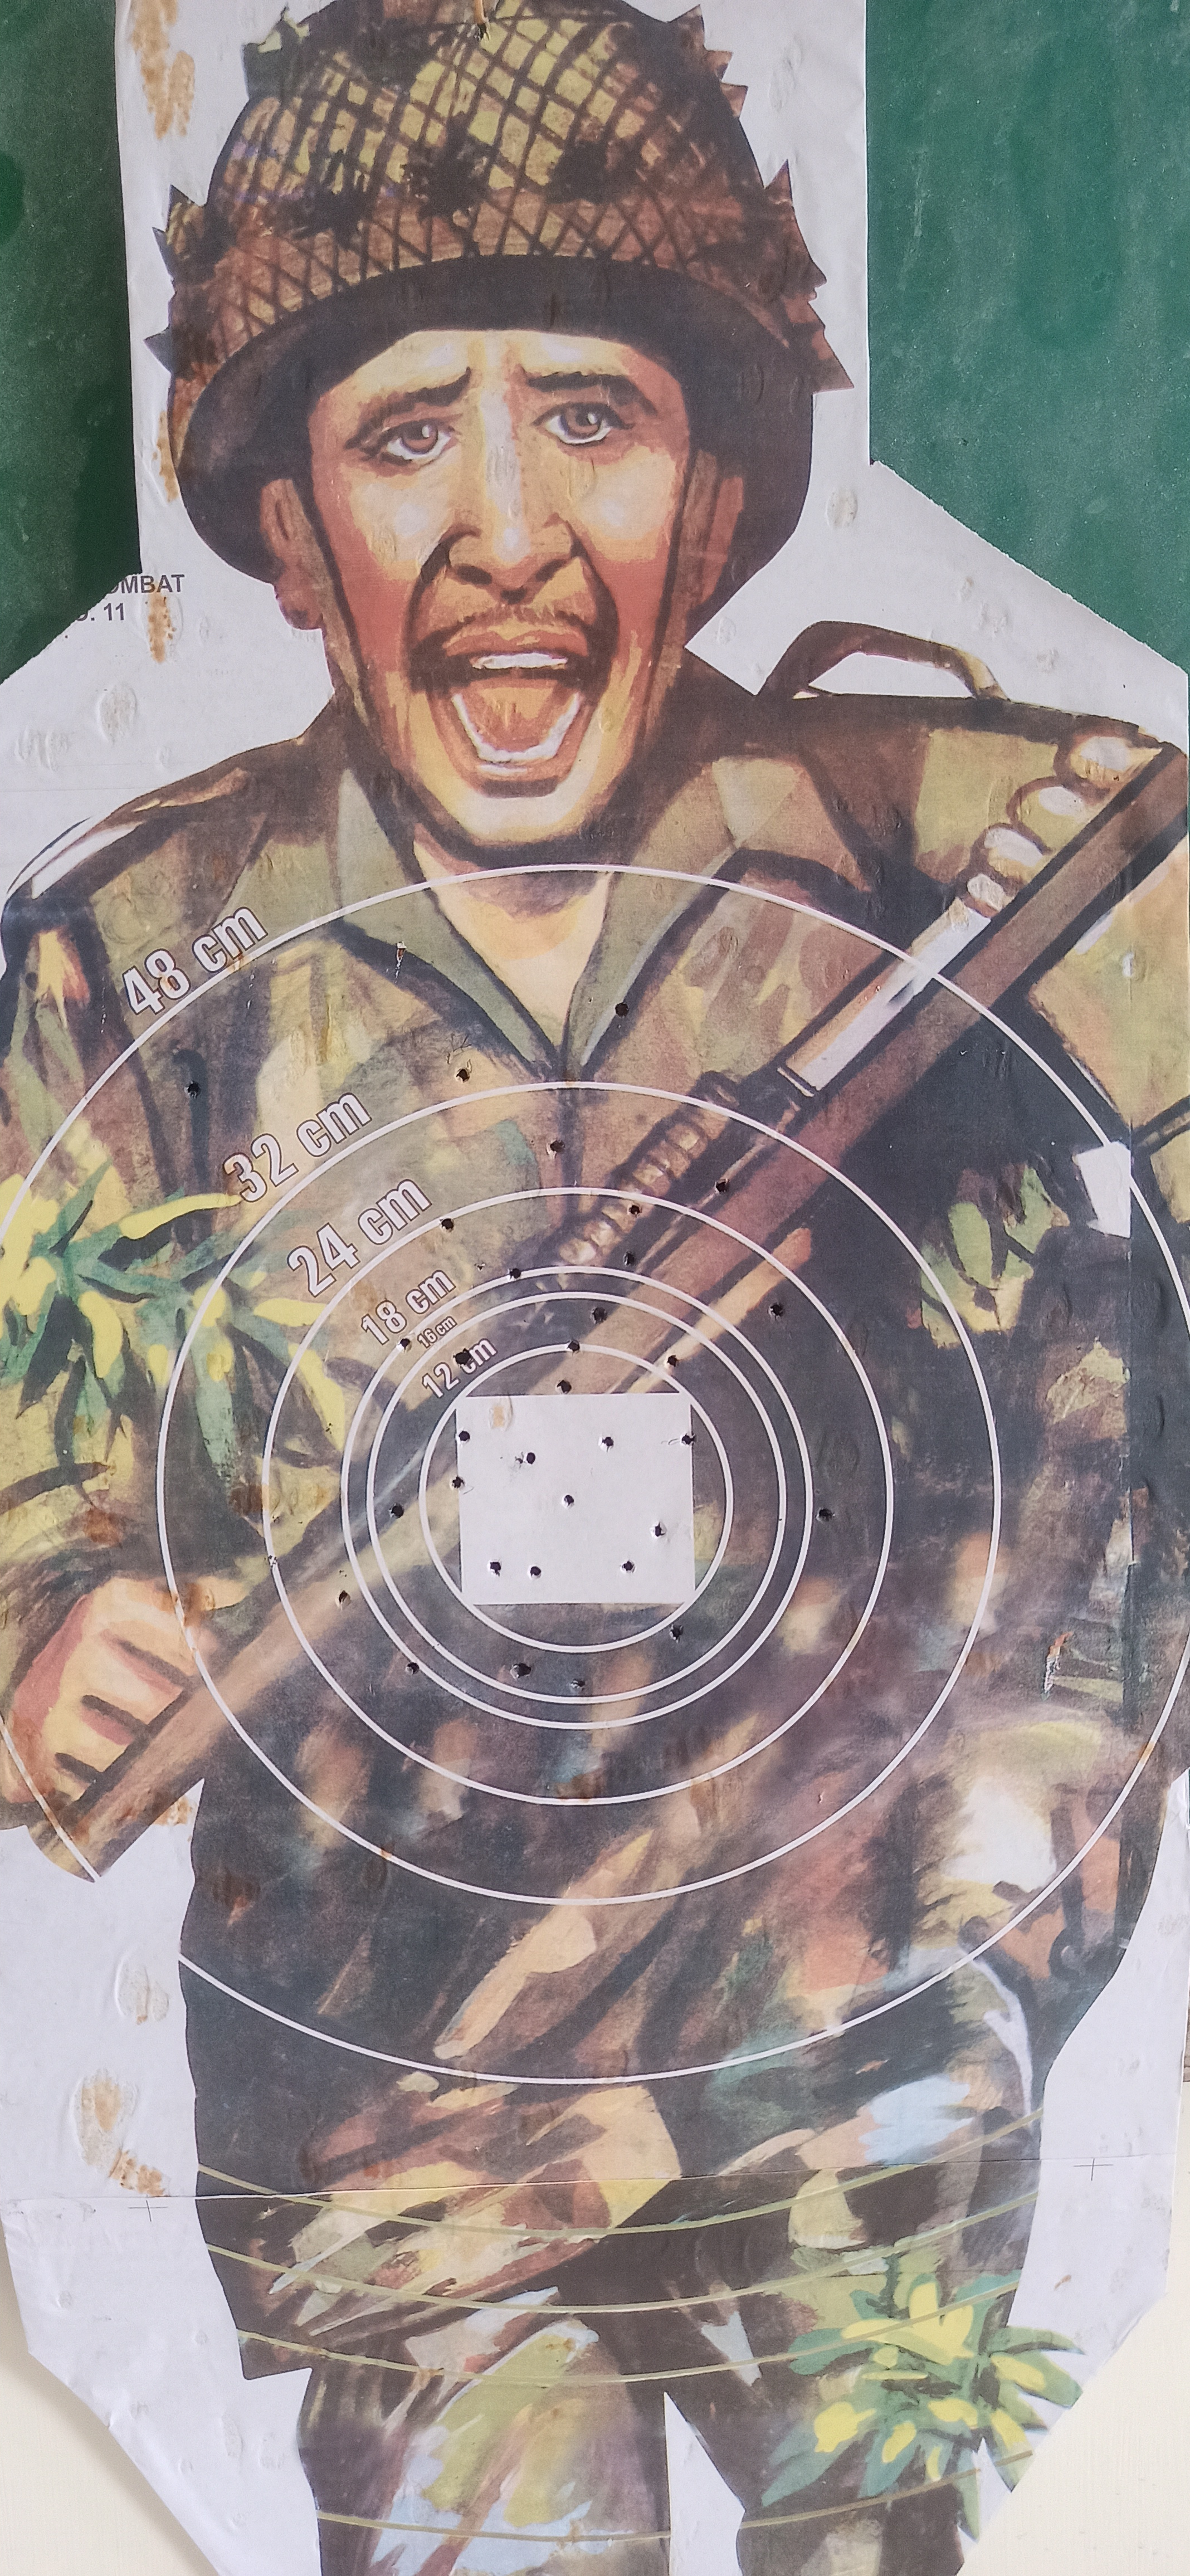bullet hit: (605, 994, 639, 1025), (503, 1658, 536, 1687), (541, 1135, 572, 1163), (449, 1345, 480, 1372), (707, 1176, 738, 1201), (657, 1347, 687, 1372), (447, 1060, 477, 1084), (514, 1446, 541, 1472), (182, 1076, 209, 1102), (447, 1472, 473, 1498), (761, 1298, 791, 1321), (812, 1503, 837, 1529), (329, 1585, 353, 1612), (562, 1334, 587, 1360), (483, 1554, 506, 1582), (385, 1500, 409, 1525), (616, 1249, 641, 1273), (554, 1375, 577, 1401), (587, 1306, 613, 1329), (679, 1429, 702, 1454), (623, 1198, 646, 1222), (526, 1557, 546, 1585), (439, 1214, 460, 1239), (646, 1521, 671, 1543), (560, 1488, 580, 1515), (616, 1557, 639, 1579), (401, 1658, 424, 1679), (598, 1433, 623, 1452), (396, 1331, 416, 1355), (500, 1263, 526, 1281), (457, 1424, 473, 1452), (666, 1623, 687, 1644), (569, 1672, 592, 1692)
white box: (454, 1396, 699, 1610)
